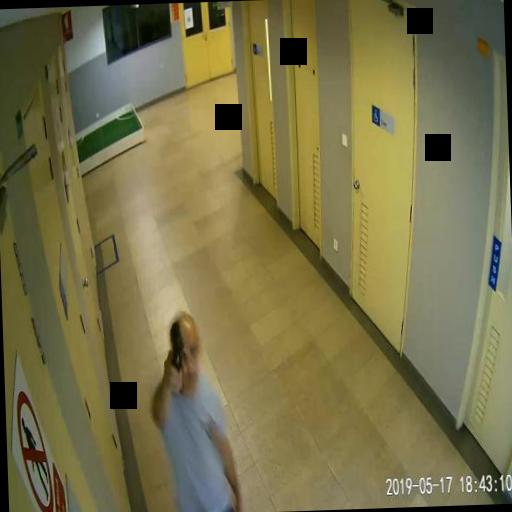Handgun: (166, 320, 184, 382)
